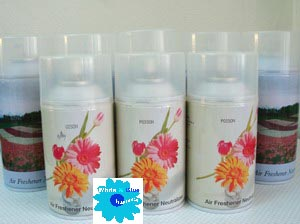Aerosol_cans: (36, 30, 117, 224), (183, 28, 259, 219), (112, 27, 188, 218), (246, 27, 300, 185), (1, 35, 47, 192)
